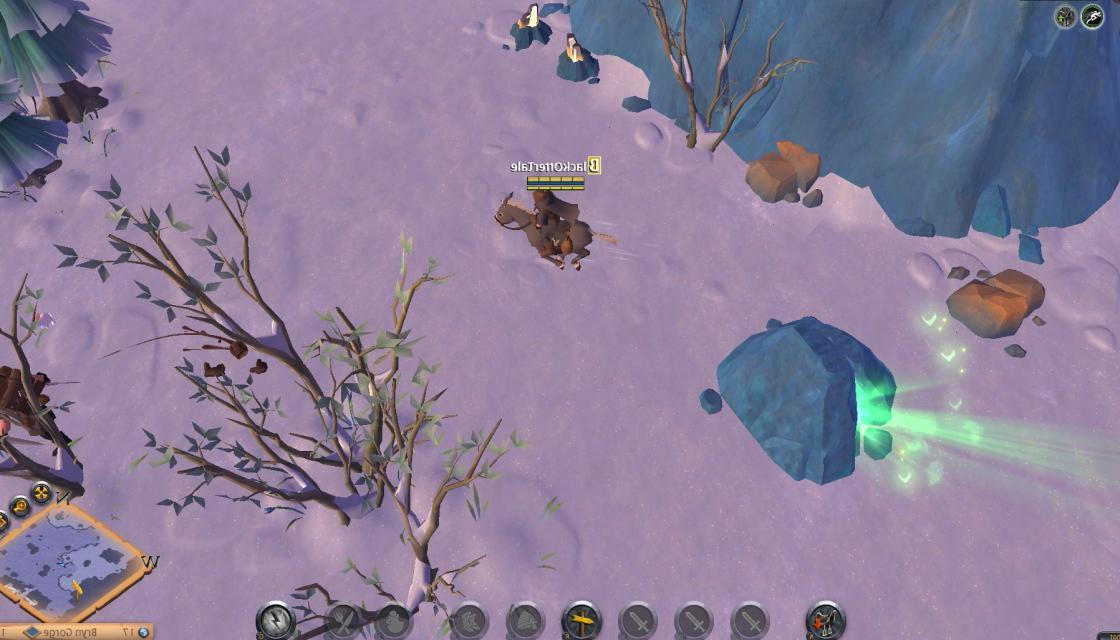copperore: (503, 0, 555, 52), (554, 32, 602, 84)
limestone: (945, 266, 1052, 342), (745, 141, 824, 207)
